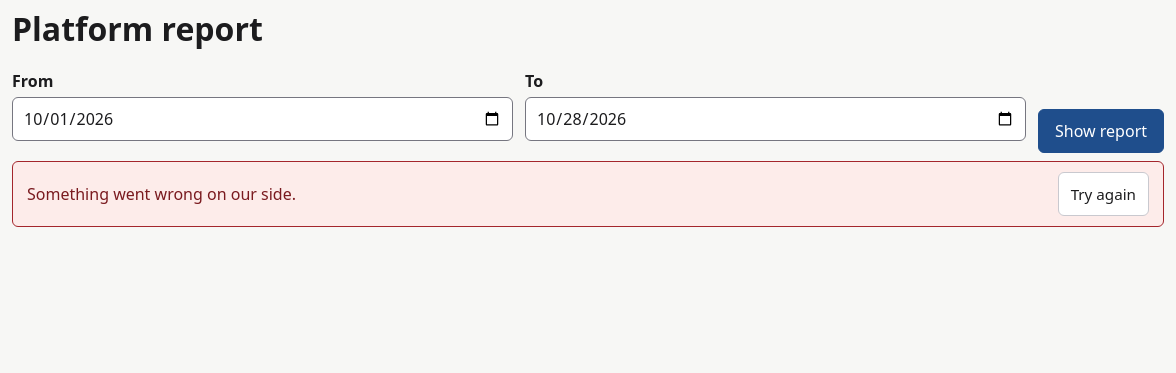
Test: error, loading and retry states (S-23, S-24, S-29; TASK-05) › S-29 platform report: failure shows the error and Try again; no stale or fake success; retry works
Check: the message shows "Something went wrong on our side.", box [27,183,296,205]
Check: the text "Dune" is not shown
Click the button "Try again".
click(1103, 194)  # box [1058,172,1149,216]
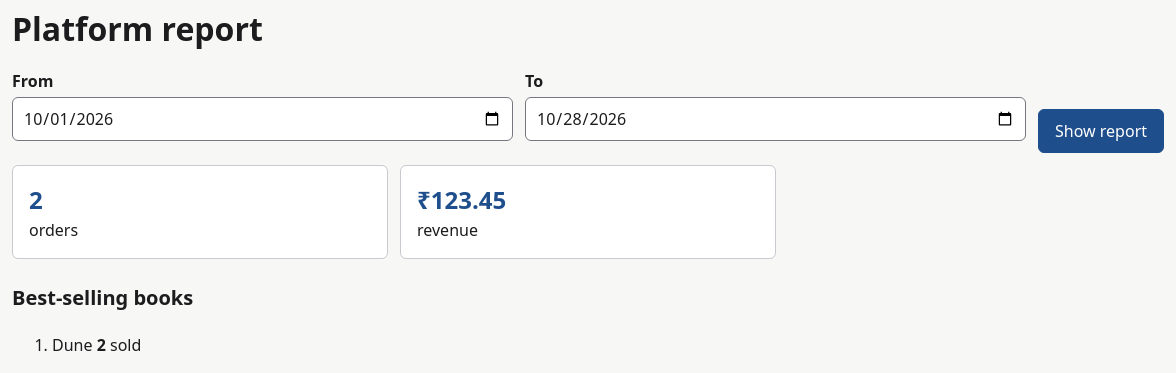
Check: the list item "Dune 2 sold" is shown, box [52,334,92,356]
Check: the message "Something went wrong on our side. Try again" is gone
